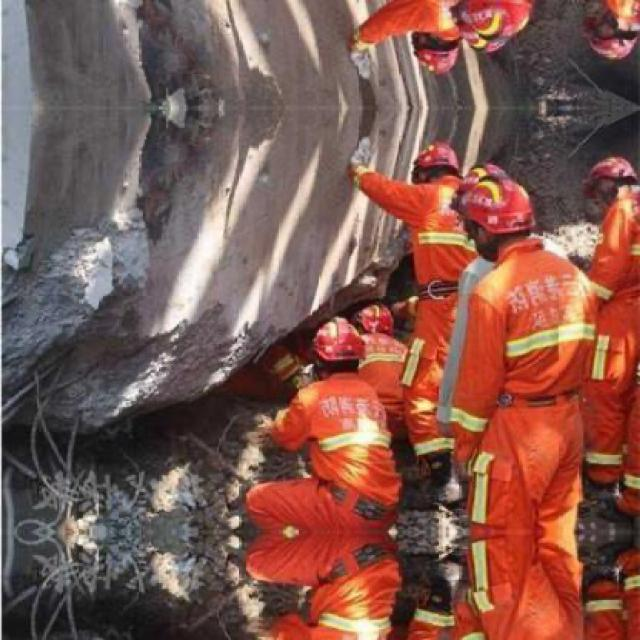helmet: (457, 170, 534, 259), (455, 0, 534, 48), (311, 318, 371, 373), (410, 145, 464, 193), (410, 24, 464, 72), (588, 154, 632, 208), (588, 9, 632, 63), (349, 302, 394, 344)
